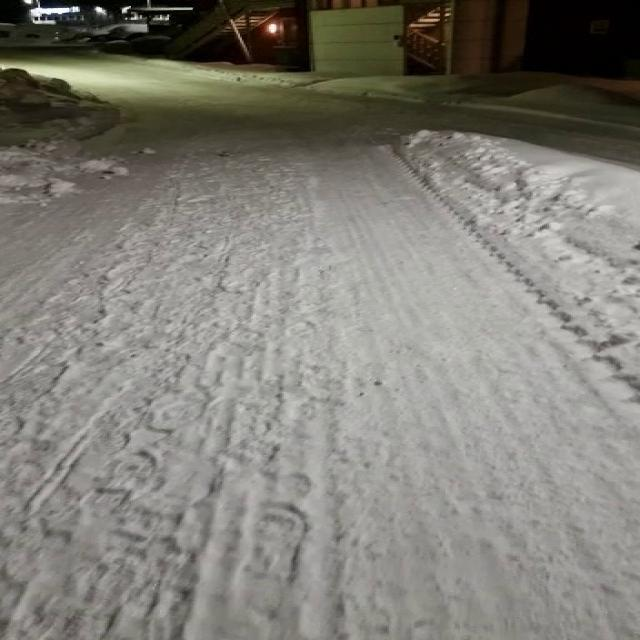path: (2, 50, 636, 640)
